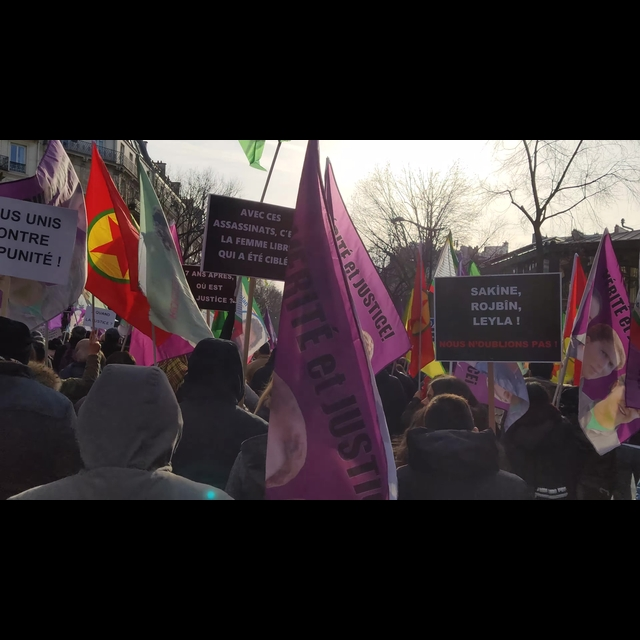PKK: (85, 144, 157, 342)
